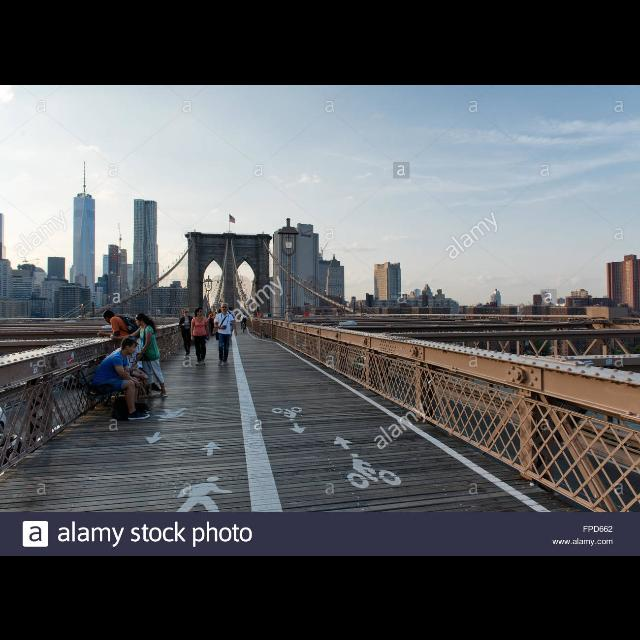head: (121, 337, 137, 355), (122, 337, 136, 355), (102, 308, 116, 324), (135, 313, 147, 327), (195, 306, 203, 316), (221, 302, 229, 312), (183, 308, 189, 316), (229, 306, 233, 310), (242, 312, 245, 316)
person: (108, 310, 170, 402), (88, 336, 152, 422), (94, 307, 146, 398), (104, 333, 150, 411), (213, 301, 239, 367), (188, 306, 212, 366), (177, 306, 196, 356), (224, 306, 238, 342), (240, 311, 248, 329)
